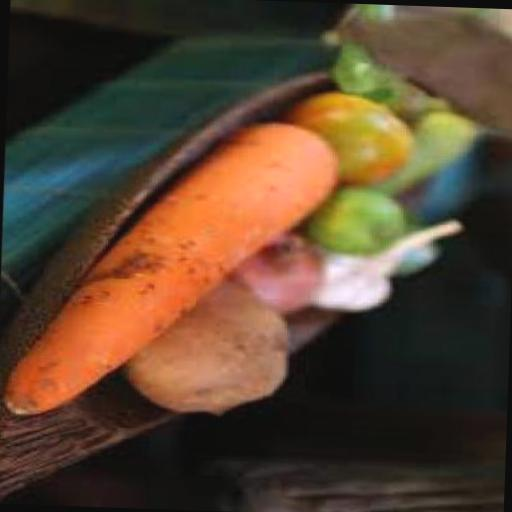biodegradable: (0, 110, 343, 425), (120, 276, 296, 415), (351, 6, 512, 134), (314, 212, 466, 312), (279, 90, 408, 189), (368, 106, 490, 196), (230, 228, 329, 312), (306, 180, 414, 255), (392, 210, 446, 276), (397, 90, 460, 124)
